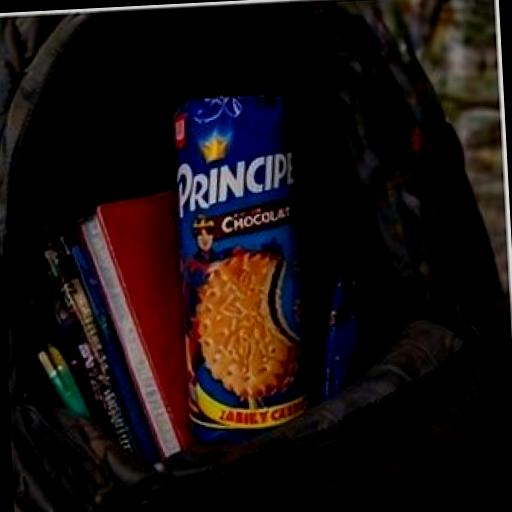prince: (126, 58, 413, 480)
